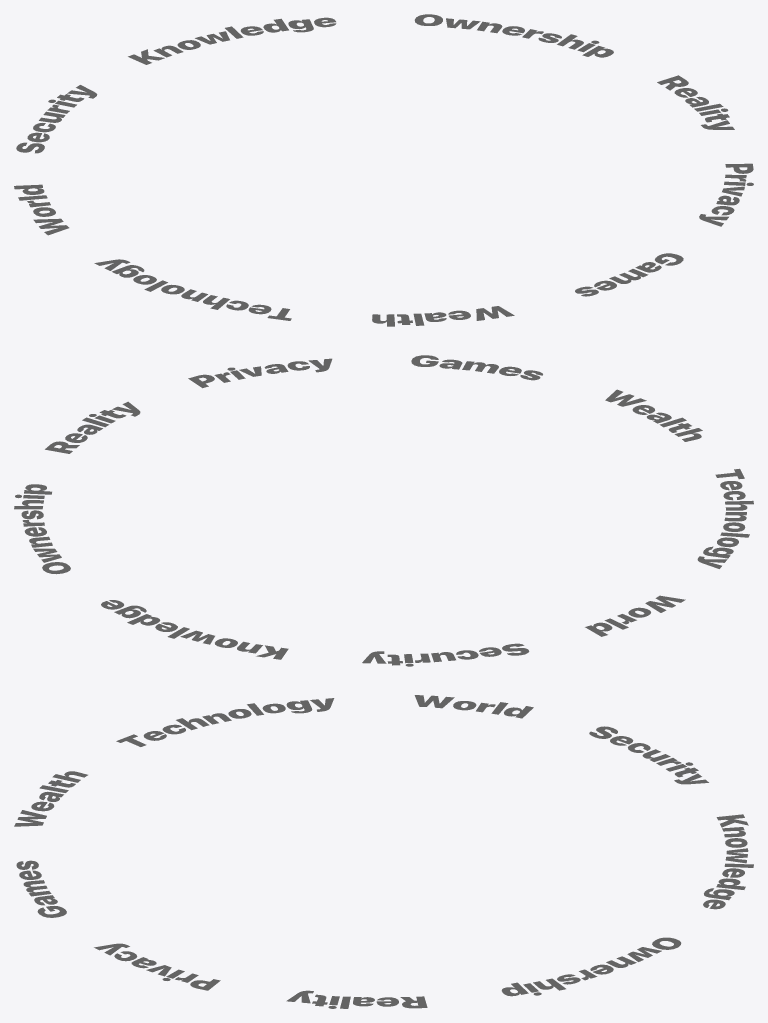
3 views of the same model, one above another, from view 1: azimuth 30°, elevation 25°; view 2: azimuth 150°, elevation 25°; view 3: azimuth 270°, elevation 25° (orthographic).
Parts seen in each view (by area): view 1: Text_C; view 2: Text_C; view 3: Text_C.
Boxes of the visible parts, x1,y1,x2,y2 form: Text_C: (14,14,753,326); Text_C: (14,355,753,666); Text_C: (14,695,753,1008).
Size of the model in its own units: 14.52 by 9.43e-08 by 14.47.
Materials: 1 (1 with a texture image).
